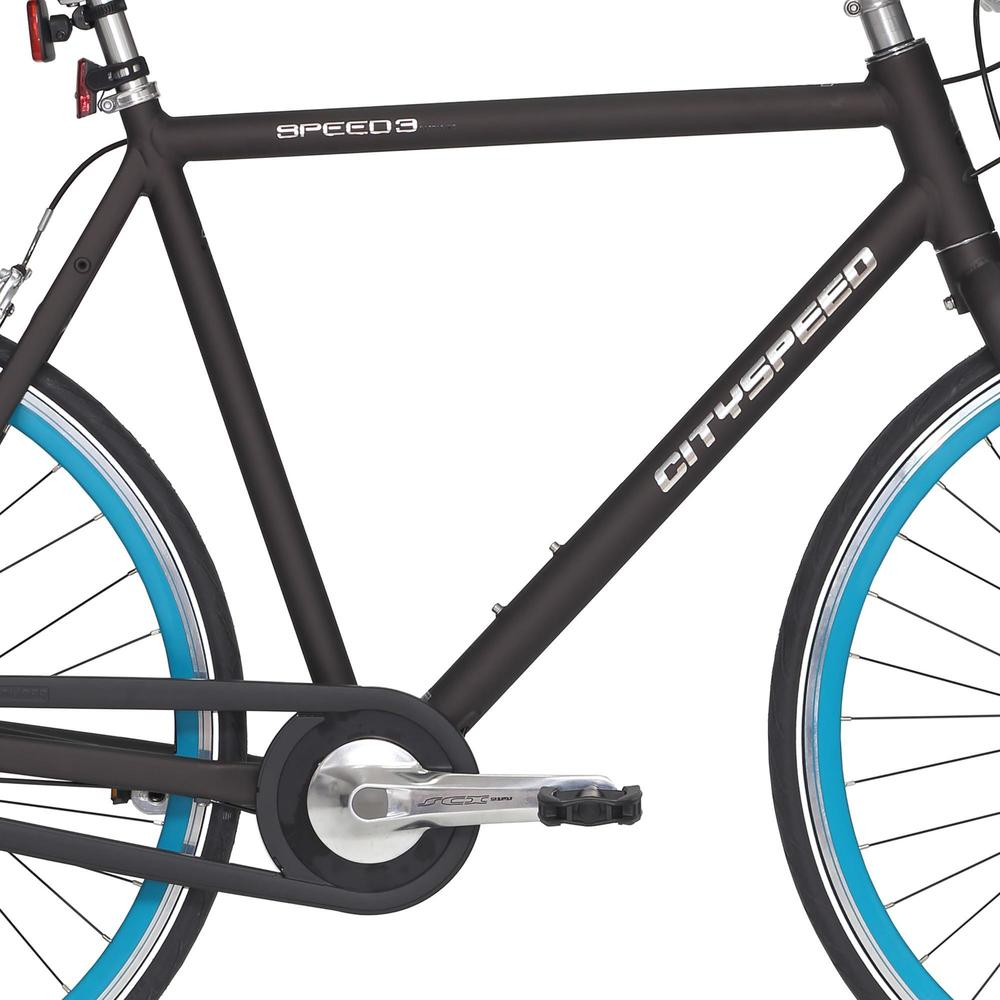UrbanBike: (0, 0, 1000, 978)
